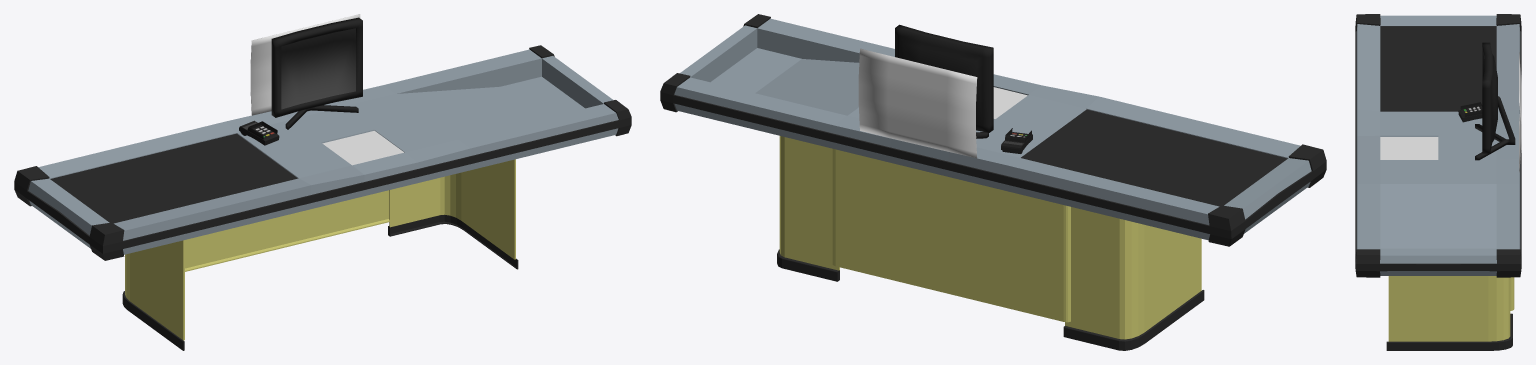
Rendered from cassa_supermarket.fbx.
The picture shows the model from 3 angles, left to right: view 1: azimuth 30°, elevation 25°; view 2: azimuth 150°, elevation 25°; view 3: azimuth 270°, elevation 25°; orthographic projection. The views are drawn at different scales.
Parts seen in each view (by area): view 1: rullo, appoggio a terra, schermo, rullo.001, centro davanti piedi cassa, piedino plastica, vetro protezione, pos; view 2: rullo, centro davanti piedi cassa, appoggio a terra, vetro protezione, rullo.001, schermo, piedino plastica, pos; view 3: rullo, appoggio a terra, rullo.001, schermo, piedino plastica, pos, vetro protezione, centro davanti piedi cassa.
Boxes of the visible parts, left/top/right/bottom form: rullo: left=28, top=49, right=618, bottom=254; appoggio a terra: left=125, top=159, right=515, bottom=340; schermo: left=271, top=17, right=362, bottom=129; rullo.001: left=14, top=45, right=631, bottom=260; centro davanti piedi cassa: left=185, top=190, right=389, bottom=271; piedino plastica: left=122, top=214, right=518, bottom=350; vetro protezione: left=250, top=14, right=360, bottom=115; pos: left=239, top=120, right=279, bottom=145; rullo: left=674, top=18, right=1311, bottom=245; centro davanti piedi cassa: left=832, top=149, right=1070, bottom=322; appoggio a terra: left=779, top=136, right=1201, bottom=339; vetro protezione: left=858, top=48, right=977, bottom=158; rullo.001: left=660, top=14, right=1326, bottom=246; schermo: left=895, top=24, right=993, bottom=138; piedino plastica: left=777, top=249, right=1204, bottom=350; pos: left=1001, top=128, right=1032, bottom=153; rullo: left=1356, top=15, right=1520, bottom=275; appoggio a terra: left=1388, top=276, right=1510, bottom=341; rullo.001: left=1355, top=14, right=1521, bottom=277; schermo: left=1475, top=42, right=1515, bottom=160; piedino plastica: left=1386, top=313, right=1512, bottom=350; pos: left=1458, top=102, right=1482, bottom=122; vetro protezione: left=1519, top=52, right=1521, bottom=172; centro davanti piedi cassa: left=1510, top=277, right=1514, bottom=310.
Size of the model in its own units: 1458 by 622 by 425.
